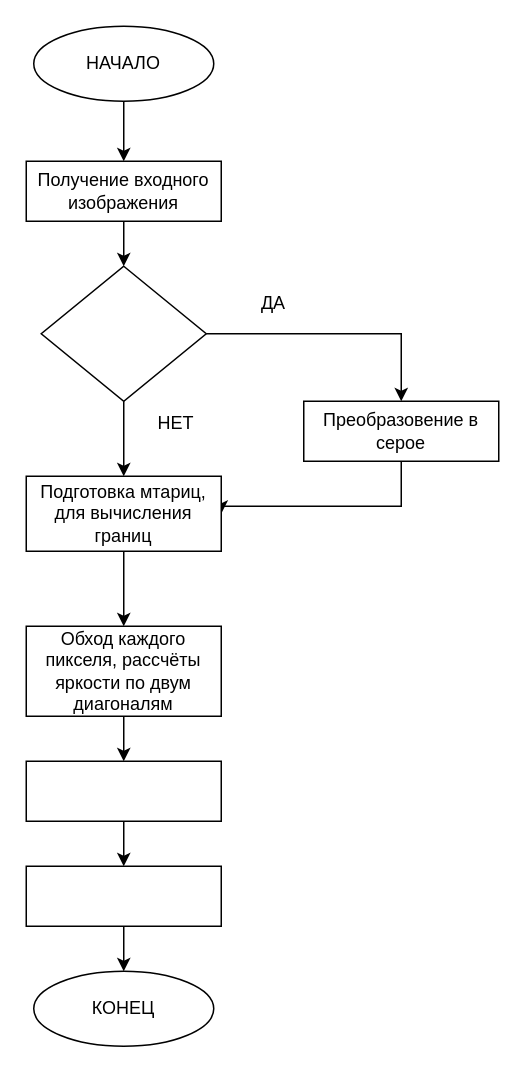
This 525x1073 diagram has some shape labels left out. Here are the shapes that lost their labels. From the top down, the centre of each, then its label:
point (123, 333): Цветное изображение?
point (123, 790): Объединение результатов
point (123, 895): Пороговая проверка
